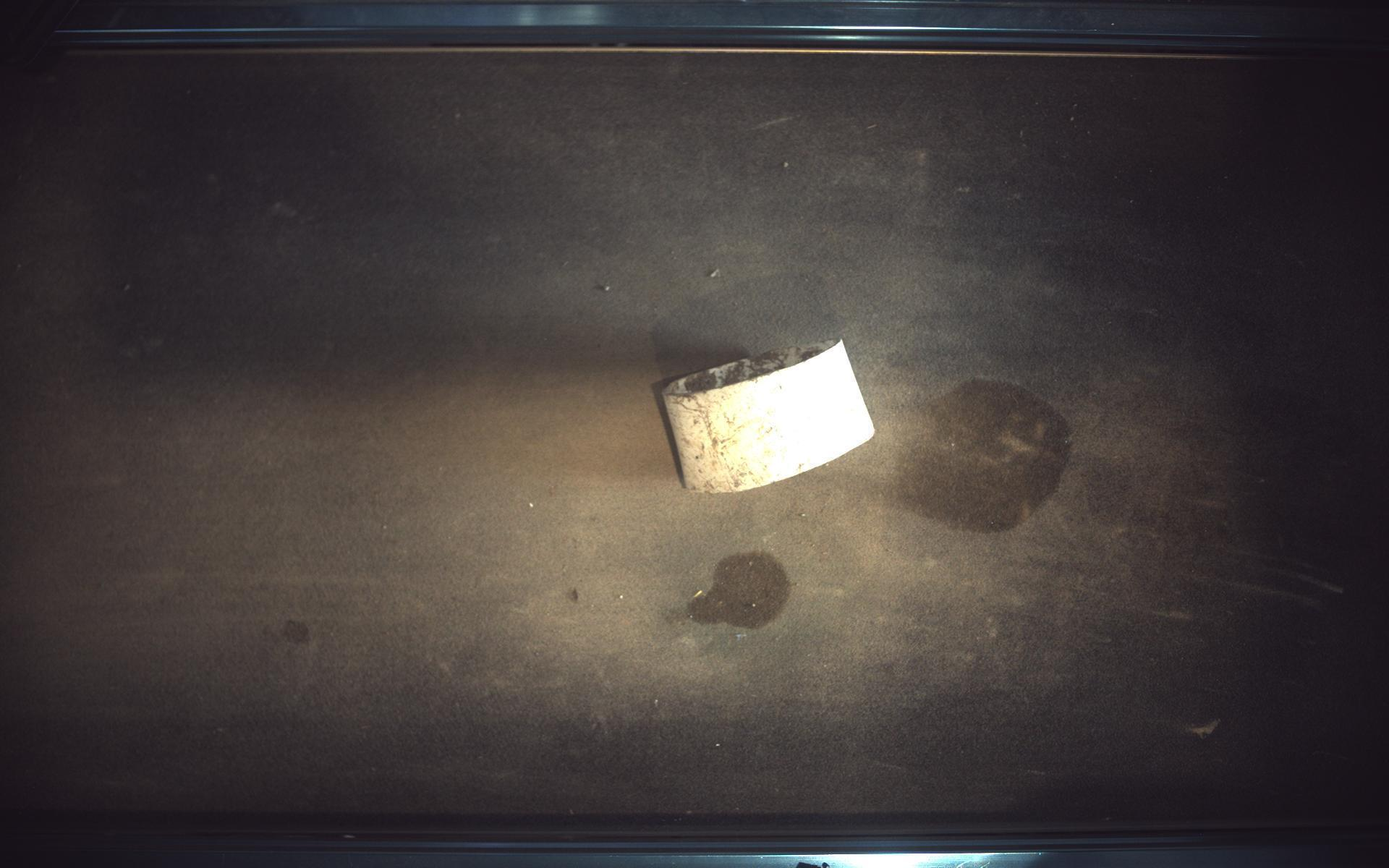plastic: (663, 341, 876, 493)
